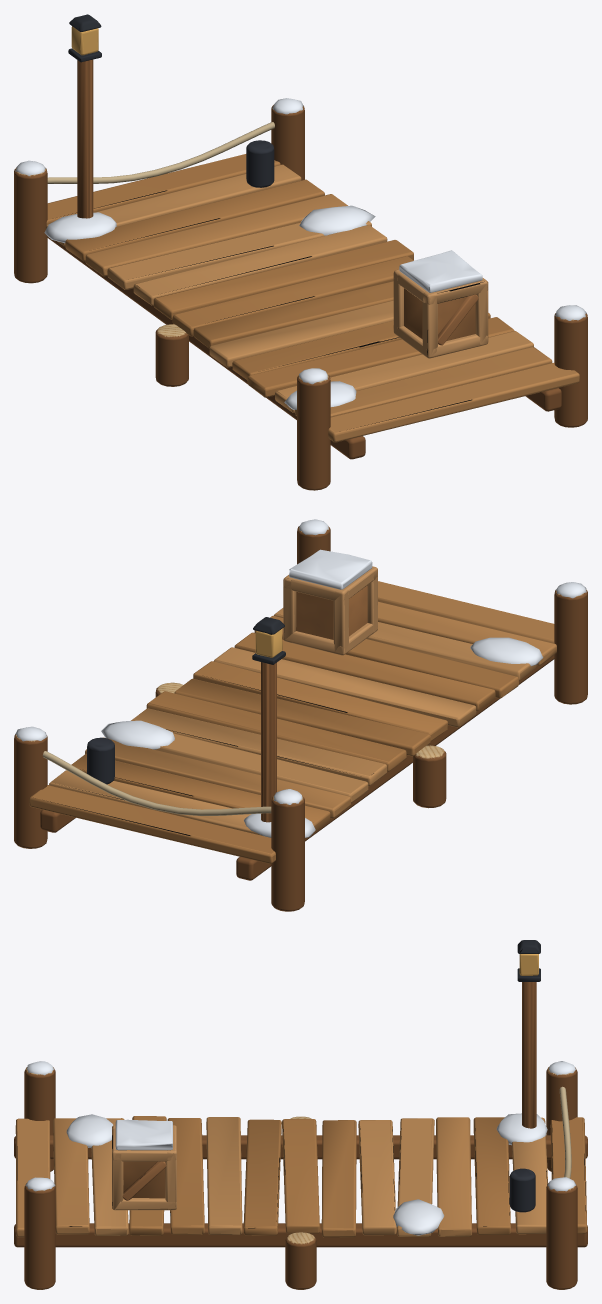
Rendered from dock_pier.glb.
The picture shows the model from 3 angles, top to bottom: view 1: azimuth 30°, elevation 25°; view 2: azimuth 150°, elevation 25°; view 3: azimuth 270°, elevation 25°; orthographic projection. The views are drawn at different scales.
Visible parts, largest first — view 1: bollard, rope; view 2: bollard, rope; view 3: bollard, rope.
Boxes of the visible parts, left/top/right/bottom form: bollard: left=14, top=14, right=587, bottom=490; rope: left=47, top=122, right=274, bottom=183; bollard: left=14, top=519, right=587, bottom=911; rope: left=42, top=751, right=271, bottom=815; bollard: left=14, top=940, right=587, bottom=1289; rope: left=559, top=1086, right=571, bottom=1178.
Size of the model in its own units: 2.33 by 2.06 by 4.4.
Materials: 2 (1 with a texture image).
